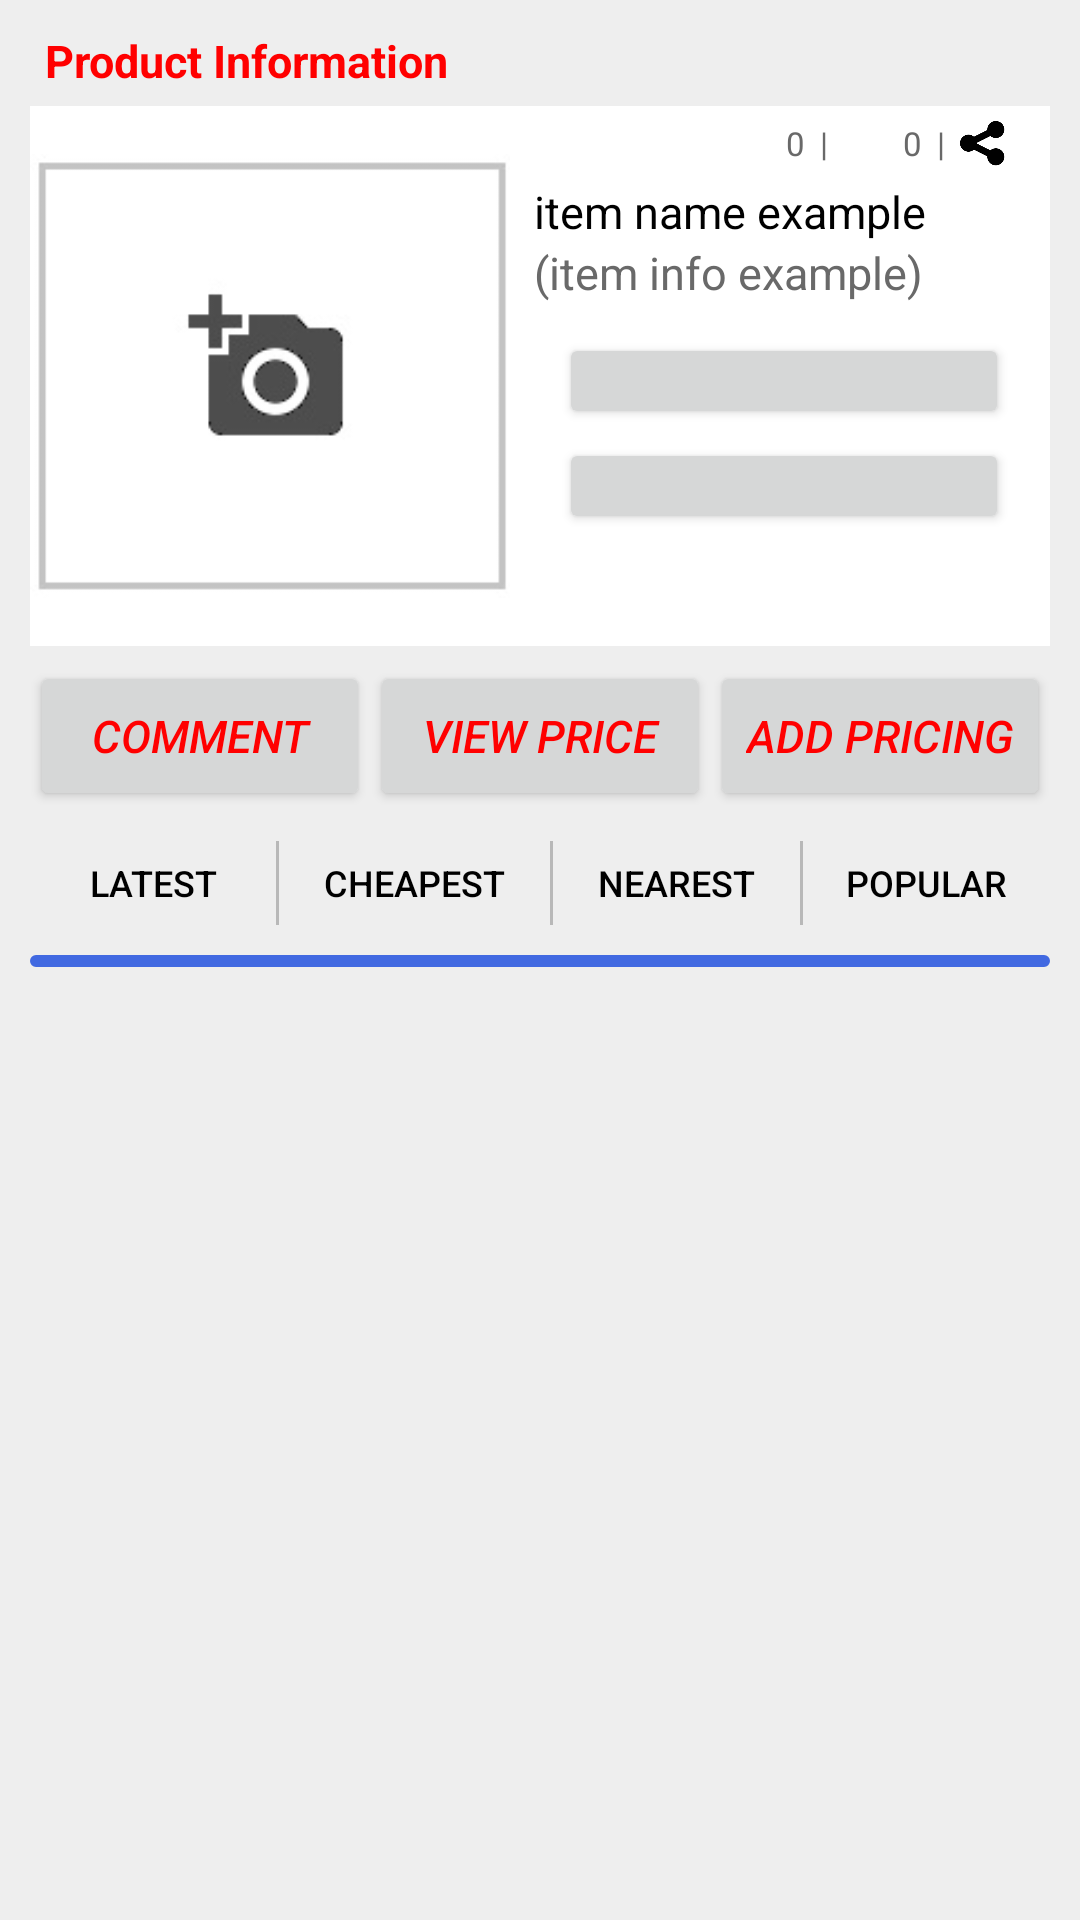

Locate icon controls on the screen. Image size 1080w x 1920h, boxes as (x1, y1, x2, y2).
share: (960, 121, 1005, 166)
